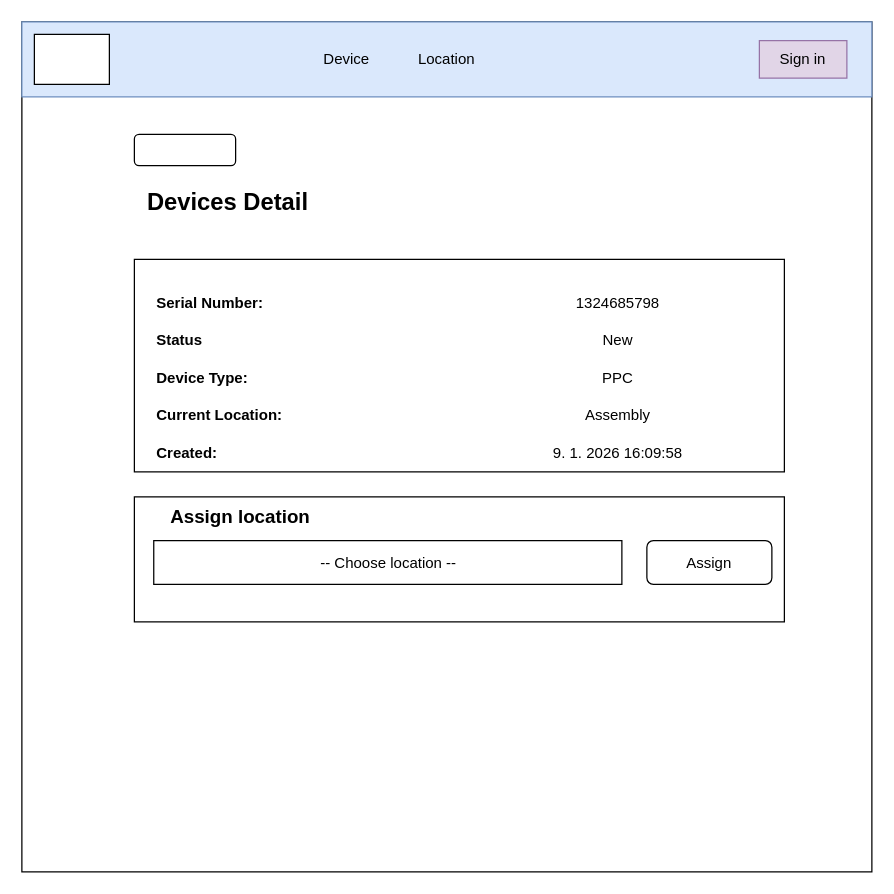
This 894x894 diagram has some shape labels left out. Here are the shapes that lost their labels. From the top down, the centre of each, then its label:
At (x=71, y=58): "Logo".
At (x=184, y=149): "<- Back".
